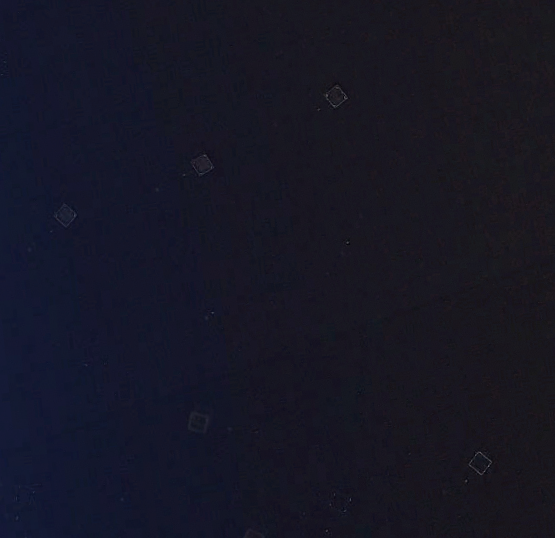square: (184, 404, 218, 442), (321, 78, 354, 111), (465, 445, 497, 479), (187, 147, 219, 179), (50, 196, 80, 227)
